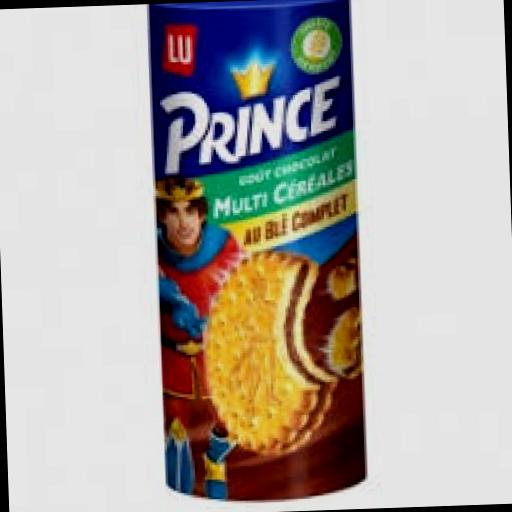prince: (87, 0, 467, 512)
